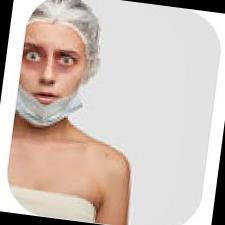mask_weared_incorrect: (16, 32, 83, 125)
